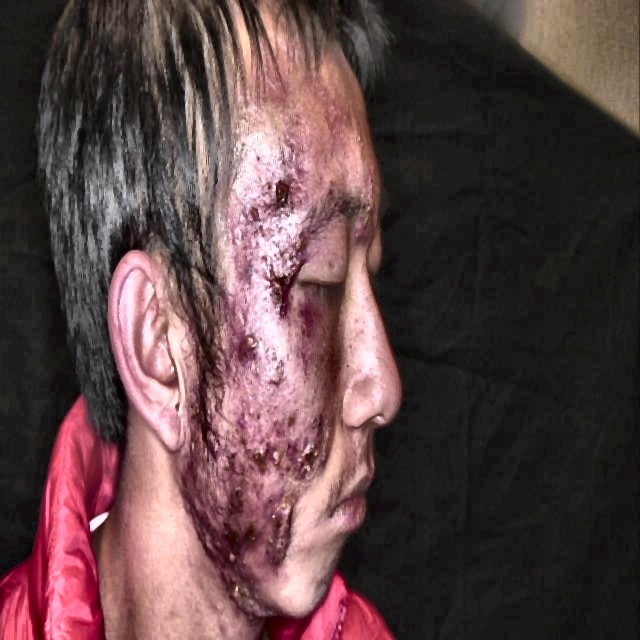nodule: (271, 490, 293, 574), (222, 565, 252, 620), (218, 514, 250, 563), (240, 193, 272, 241), (270, 261, 296, 316), (291, 432, 315, 488), (180, 444, 204, 494), (239, 586, 269, 625), (235, 320, 256, 374), (187, 495, 212, 540), (266, 343, 289, 391), (358, 164, 382, 203), (278, 164, 297, 209), (270, 442, 290, 484), (206, 517, 227, 555), (353, 212, 372, 253), (262, 64, 284, 98), (220, 435, 238, 476), (295, 303, 315, 338), (292, 230, 312, 264), (253, 422, 268, 466), (294, 345, 314, 377), (227, 224, 250, 251), (244, 520, 264, 550), (238, 433, 254, 469), (223, 294, 243, 322), (237, 387, 250, 428), (268, 410, 287, 438), (220, 478, 242, 502), (238, 302, 256, 331), (306, 410, 326, 436), (202, 404, 219, 432), (272, 487, 292, 510), (274, 235, 292, 260), (283, 138, 300, 163), (253, 151, 267, 181), (310, 564, 326, 590), (325, 101, 341, 127), (326, 180, 342, 206), (248, 476, 266, 498), (233, 266, 250, 289), (286, 402, 299, 432), (317, 445, 332, 471), (189, 404, 204, 429), (354, 128, 367, 156), (268, 392, 284, 414), (206, 436, 220, 461), (252, 388, 267, 411), (340, 102, 353, 128), (243, 366, 257, 390), (311, 166, 326, 188), (290, 110, 303, 134), (316, 80, 329, 104), (250, 407, 264, 429), (260, 506, 274, 528), (258, 252, 270, 277), (325, 252, 338, 274), (228, 372, 241, 394), (213, 596, 224, 621), (217, 619, 229, 639), (310, 384, 319, 404)
